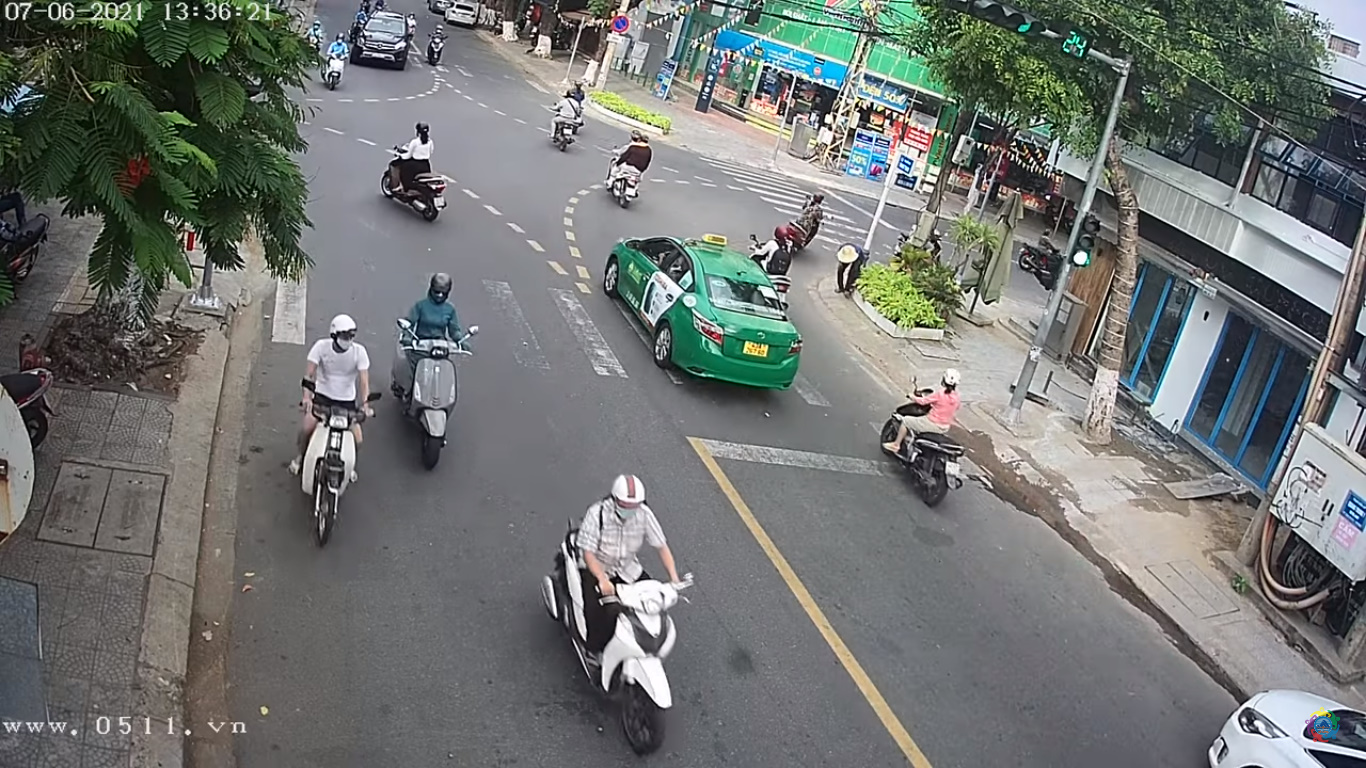car: (599, 235, 808, 401)
